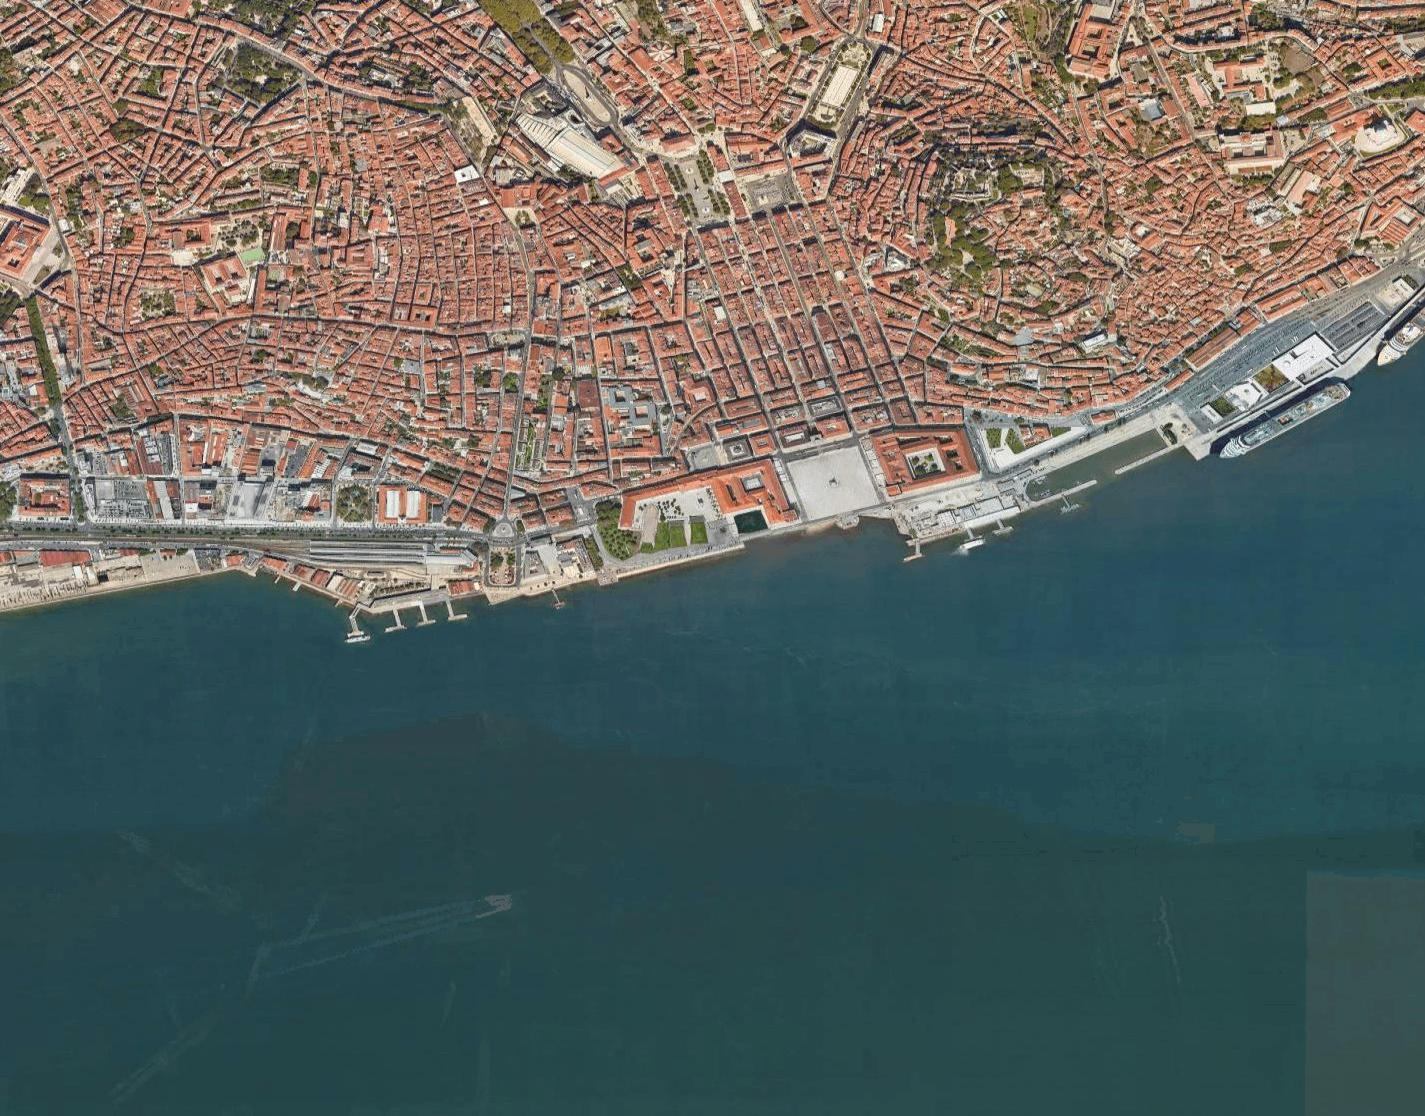harbor: (867, 273, 1416, 572), (285, 581, 482, 655)
train_station: (485, 88, 634, 183)
